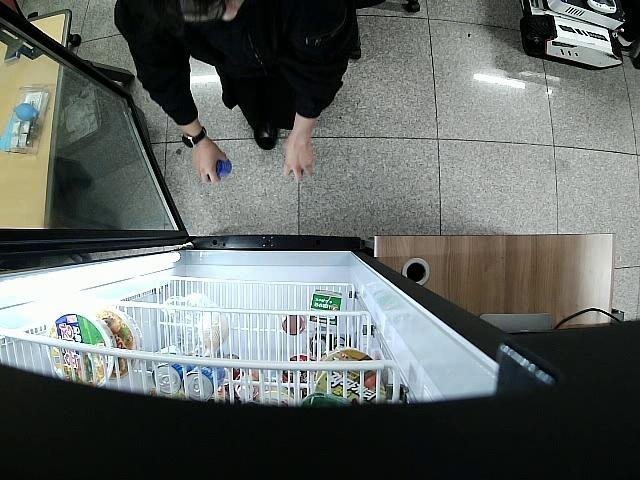13_pocariSweat: (213, 156, 234, 179)
